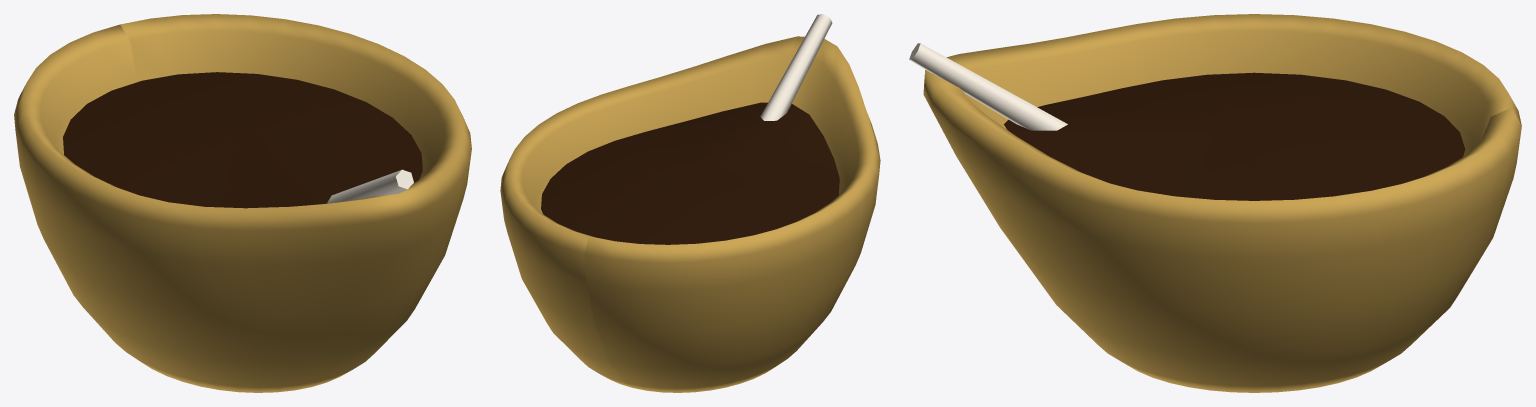
File: diwali-diya-brass.glb
The picture shows the model from 3 angles, left to right: view 1: azimuth 30°, elevation 25°; view 2: azimuth 150°, elevation 25°; view 3: azimuth 270°, elevation 25°; orthographic projection. The views are drawn at different scales.
Visible parts, largest first — view 1: Diya, Oil, Wick; view 2: Diya, Oil, Wick; view 3: Diya, Oil, Wick.
Boxes of the visible parts, <box> form: Diya: <box>14,14,471,392</box>; Oil: <box>63,72,422,208</box>; Wick: <box>327,169,413,203</box>; Diya: <box>500,36,880,392</box>; Oil: <box>541,102,839,244</box>; Wick: <box>760,14,832,120</box>; Diya: <box>923,14,1521,392</box>; Oil: <box>1004,72,1465,200</box>; Wick: <box>909,43,1067,130</box>.
Bounding box in the file's own units: 0.0894 × 0.0638 × 0.1191.
